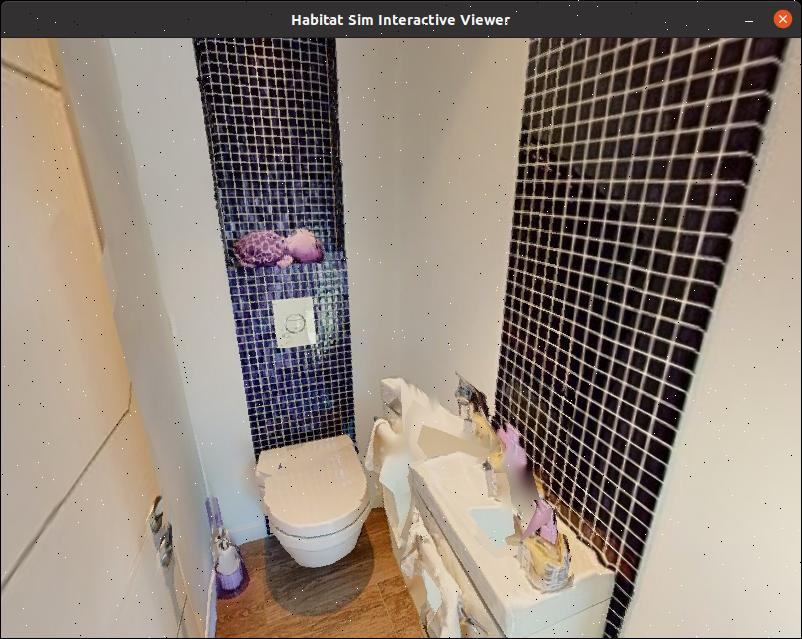toilet: (253, 423, 372, 588)
